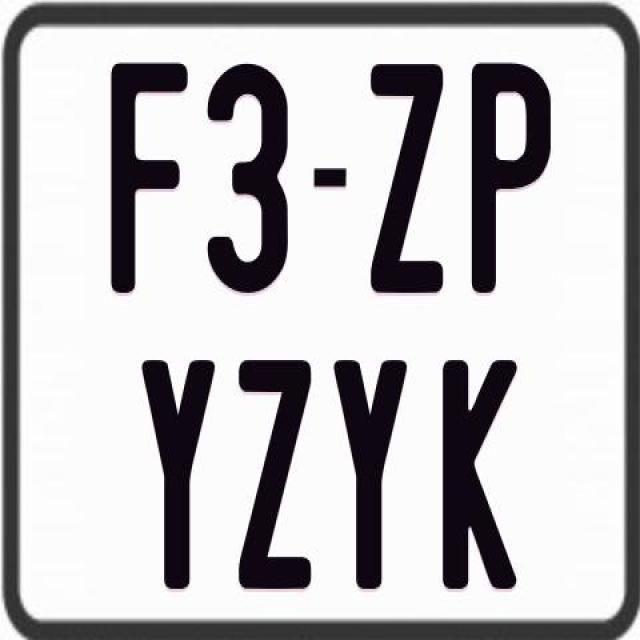3: (206, 60, 286, 298)
F: (106, 62, 192, 293)
K: (443, 358, 521, 596)
P: (468, 62, 547, 293)
Y: (334, 360, 414, 590), (142, 356, 220, 588)
Z: (371, 63, 448, 294), (236, 358, 308, 590)
